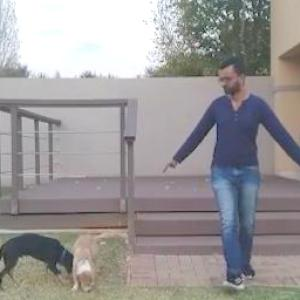land: (164, 62, 299, 284)
